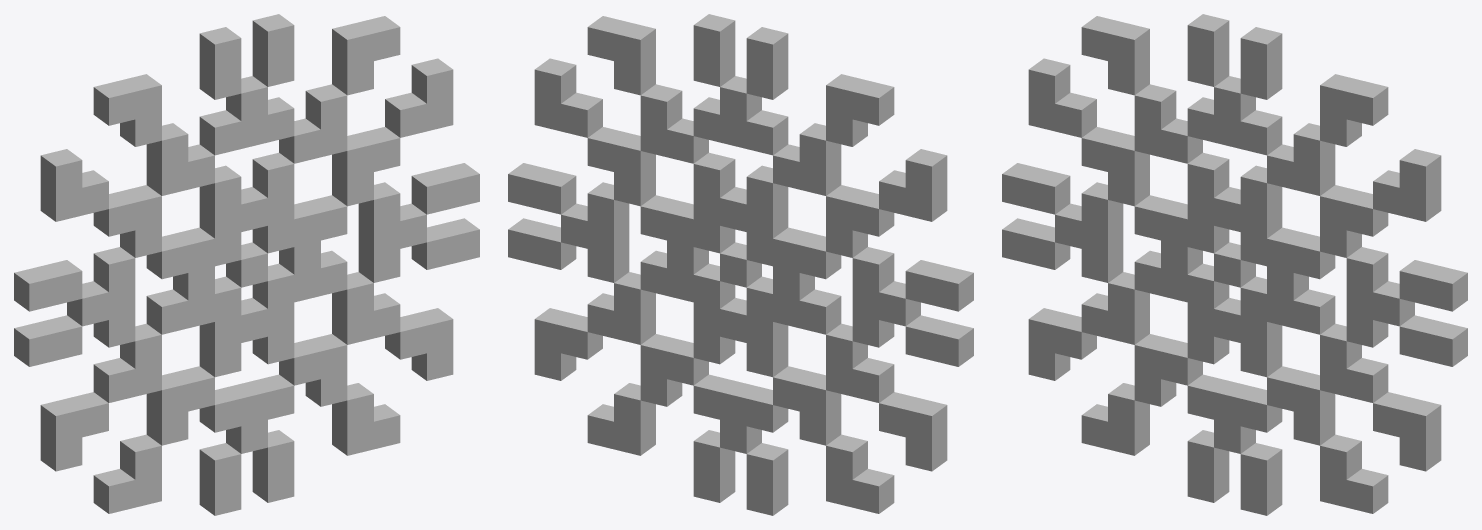
The model's file is Web_2.glb.
The picture shows the model from 3 angles, left to right: view 1: azimuth 30°, elevation 25°; view 2: azimuth 150°, elevation 25°; view 3: azimuth 330°, elevation 25°; orthographic projection.
Parts seen in each view (by area): view 1: Untitled.001; view 2: Untitled.001; view 3: Untitled.001.
Part boxes in pixels (<box>): Untitled.001: <box>14,14,479,515</box>; Untitled.001: <box>508,14,973,515</box>; Untitled.001: <box>1002,14,1467,515</box>.
Size of the model in its own units: 1.7 by 1.7 by 0.1.
Materials: 1 (1 with a texture image).
